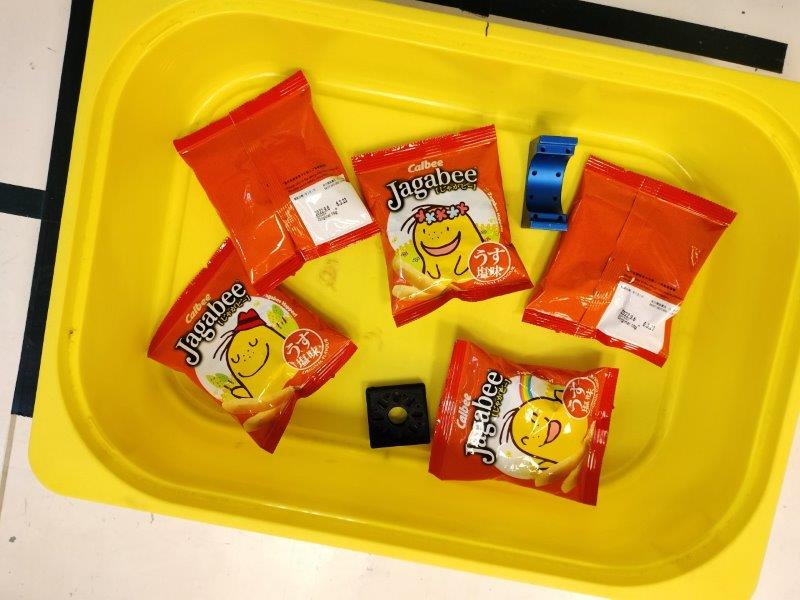Jagabee: (173, 67, 382, 296), (524, 153, 737, 368), (148, 235, 356, 453), (358, 134, 533, 327), (428, 341, 619, 508)
